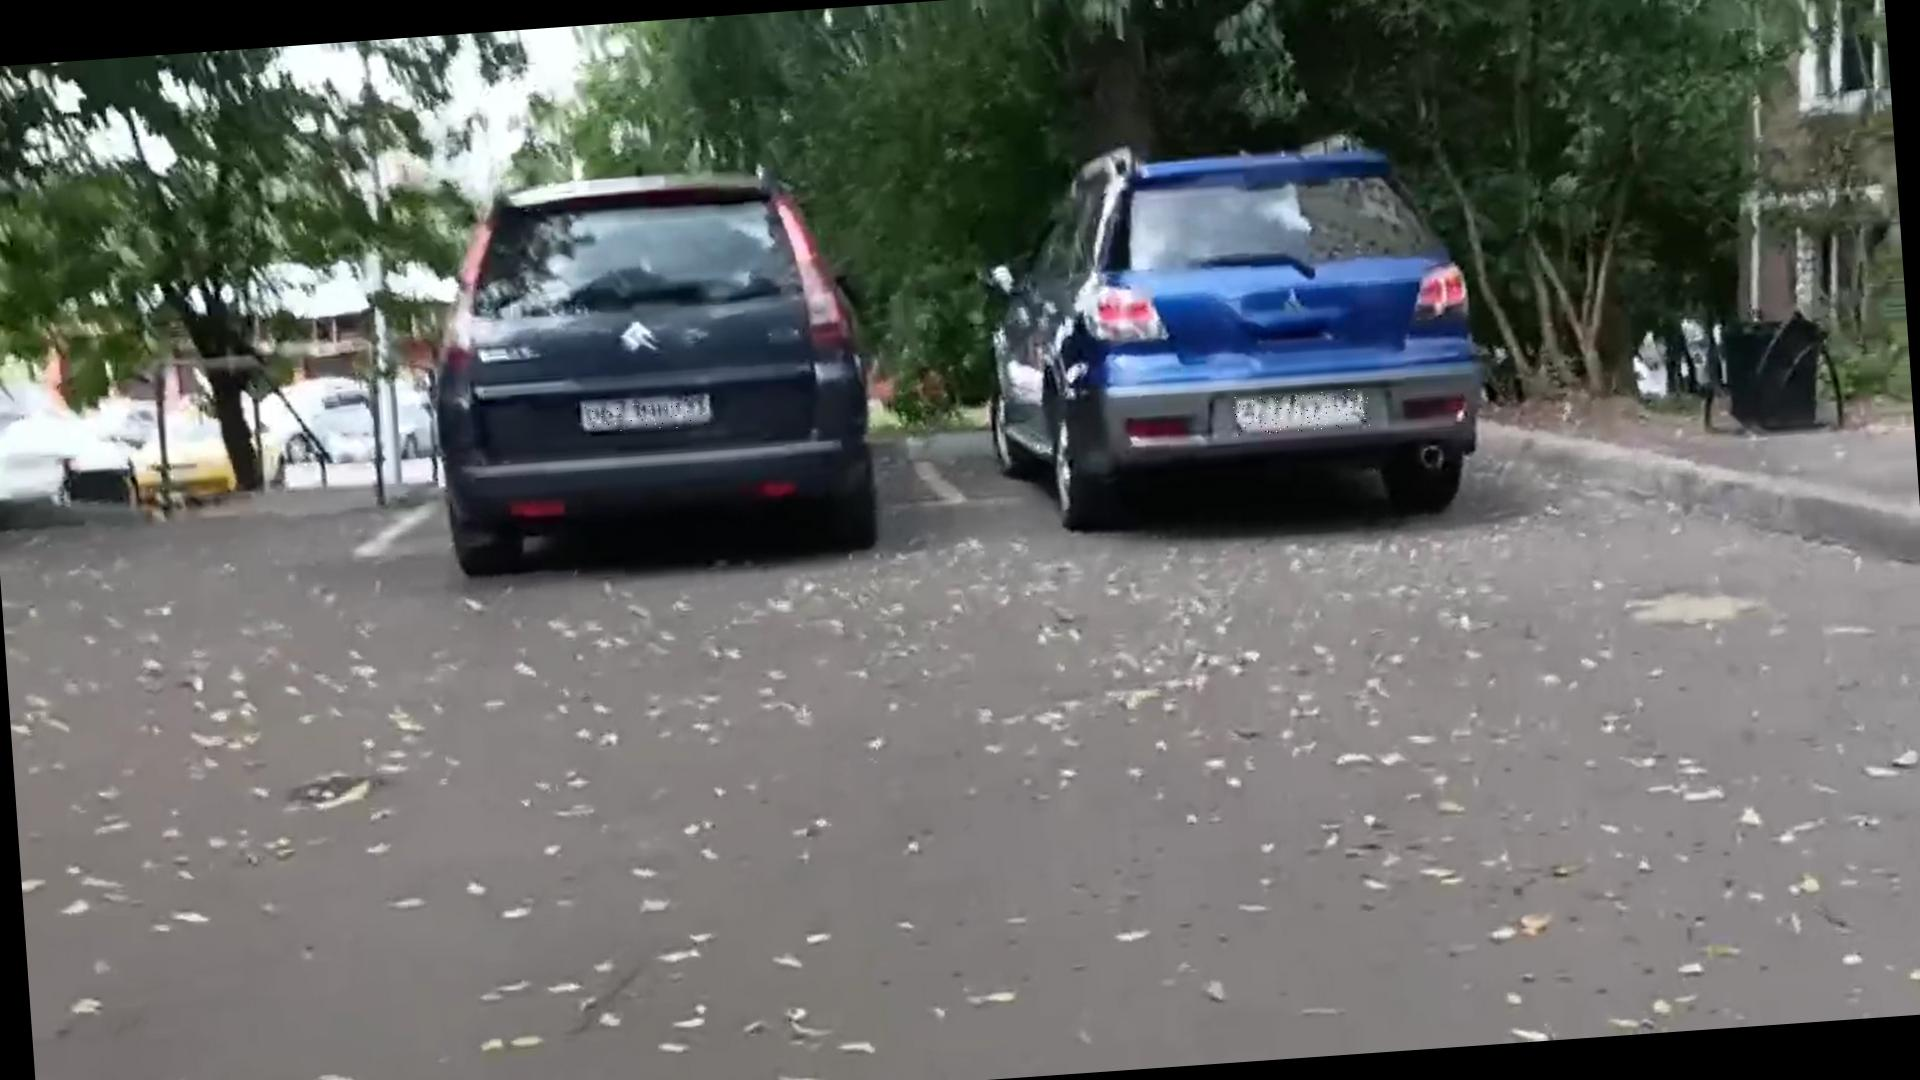plate: (1233, 390, 1372, 438), (586, 400, 716, 436)
